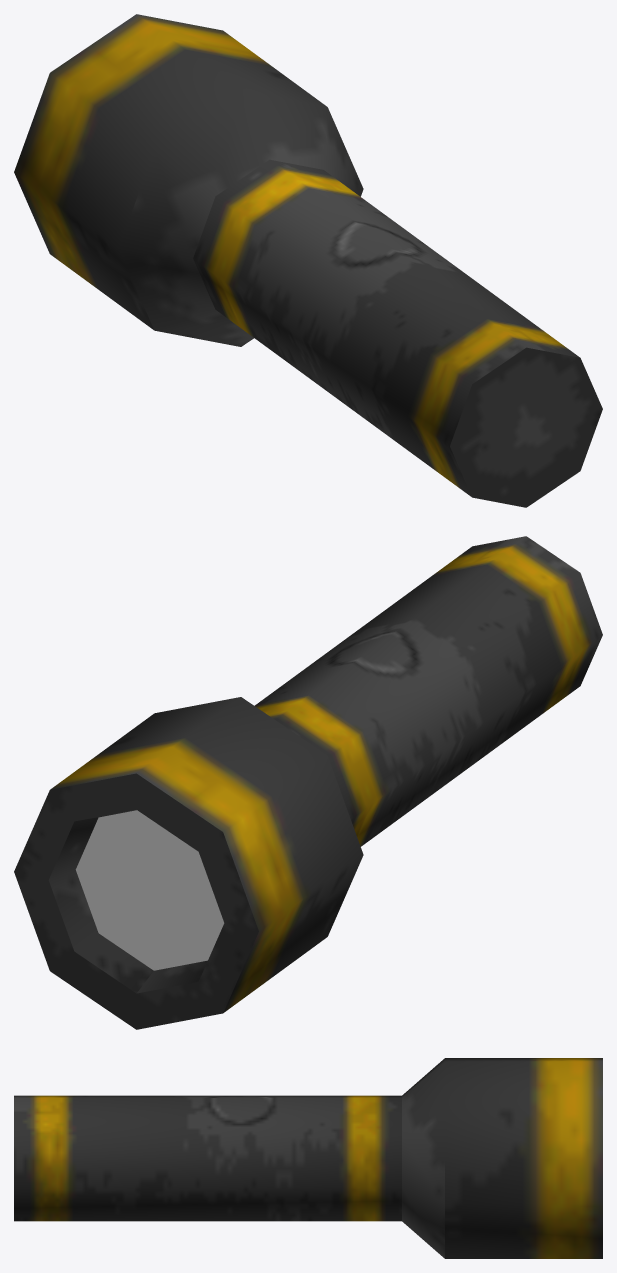
The model's file is Flashlight.fbx.
3 views of the same model, one above another, from view 1: azimuth 30°, elevation 25°; view 2: azimuth 150°, elevation 25°; view 3: azimuth 270°, elevation 25° (orthographic). The views are drawn at different scales.
Visible parts, largest first — view 1: Cube.004; view 2: Cube.004; view 3: Cube.004.
Part boxes in pixels (x1,y1,x2,y2): Cube.004: [14, 14, 602, 507]; Cube.004: [14, 536, 602, 1029]; Cube.004: [14, 1058, 602, 1258].
Bounding box in the file's own units: 115 × 115 × 318.
